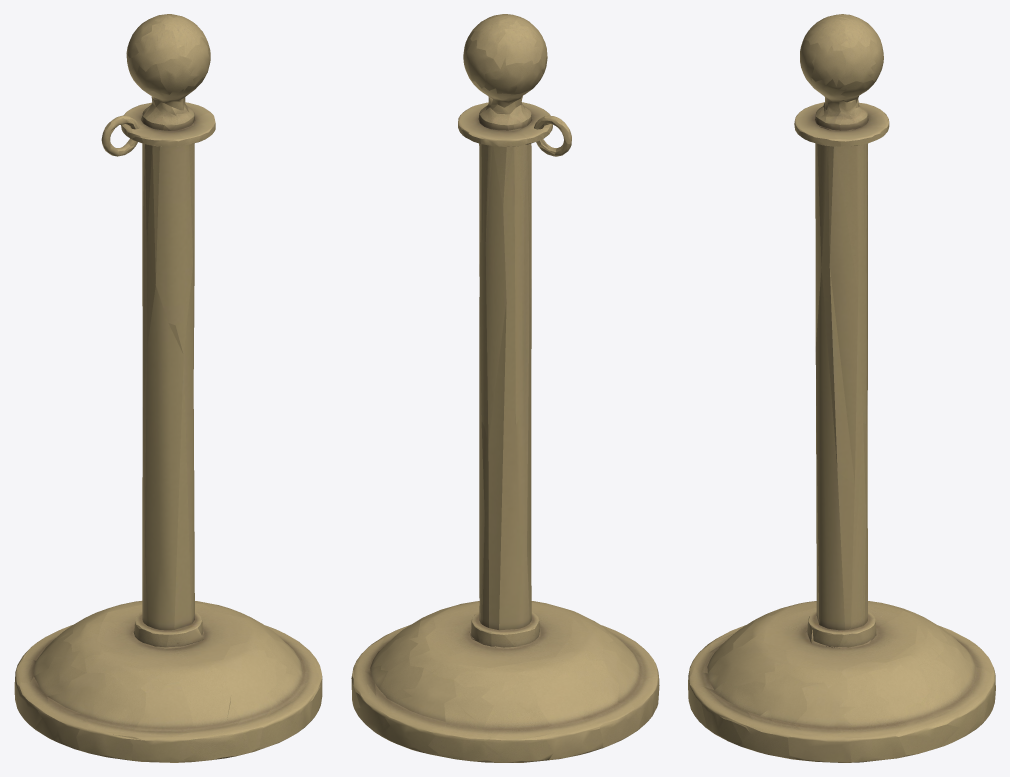
The model's file is colonnina_ottone.glb.
3 views of the same model, side by side, from view 1: azimuth 30°, elevation 25°; view 2: azimuth 150°, elevation 25°; view 3: azimuth 270°, elevation 25° (orthographic).
Visible parts, largest first — view 1: Mesh_0; view 2: Mesh_0; view 3: Mesh_0.
Part boxes in pixels (x1=…): Mesh_0: x1=14, y1=14, x2=322, y2=762; Mesh_0: x1=351, y1=14, x2=659, y2=762; Mesh_0: x1=688, y1=14, x2=995, y2=762.
Size of the model in its own units: 0.7768 by 1.9 by 0.777.
Materials: 1 (1 with a texture image).
